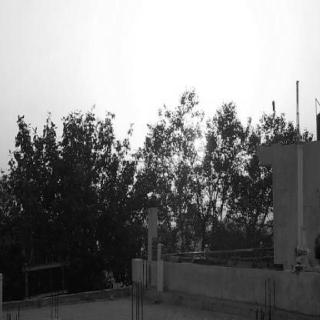other: (146, 43, 222, 176)
